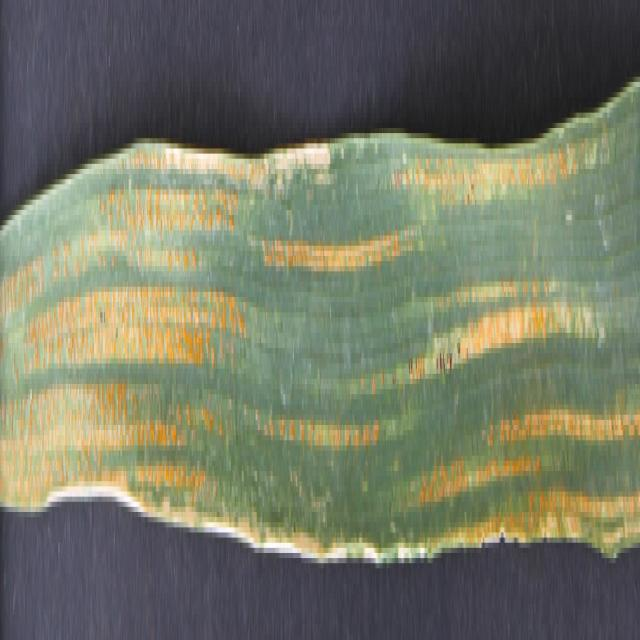leaf rust: (1, 102, 638, 538)
